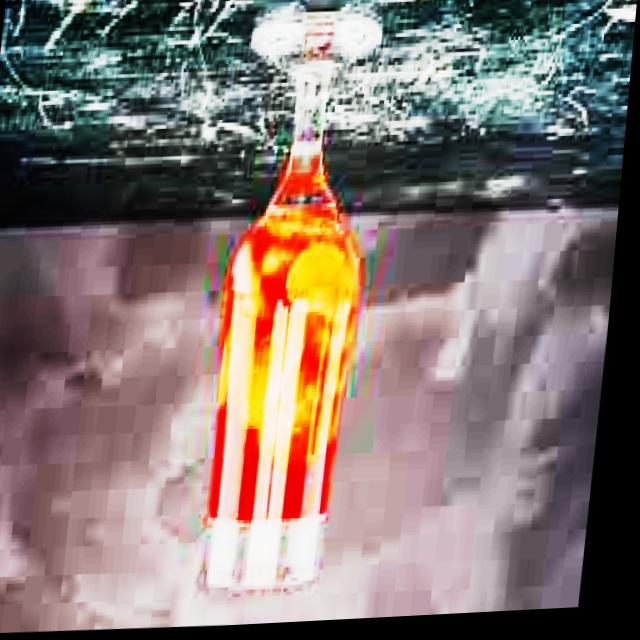drink: (182, 0, 395, 601)
